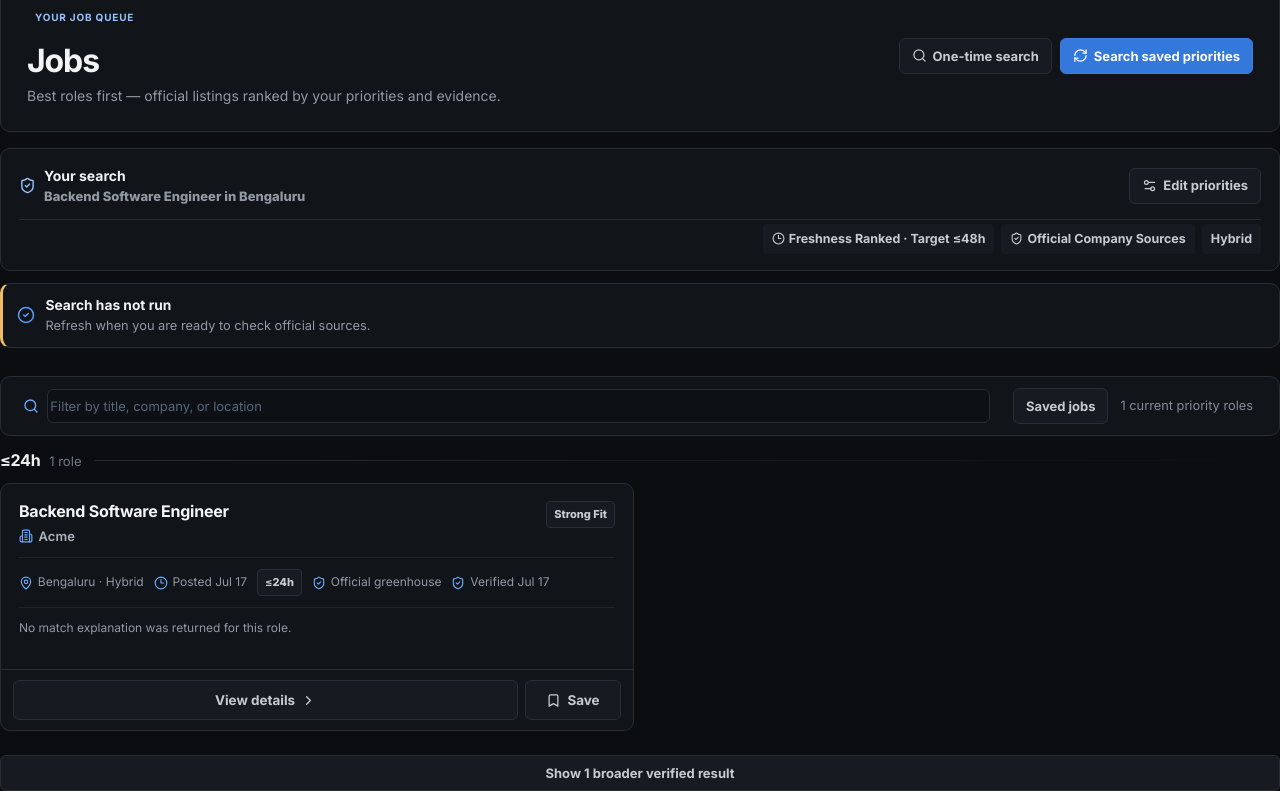
it: JobsPage application handoff › leads with current, priority-safe roles and reveals broader results deliberately
(page scrolled)
Expected: the heading "Backend Software Engineer" is shown, [19,501,229,521]
Expected: the text "Older Platform Engineer" is not shown
Click the button "Show 1 broader verified result": (640, 773) [0,755,1279,790]
(page scrolled)
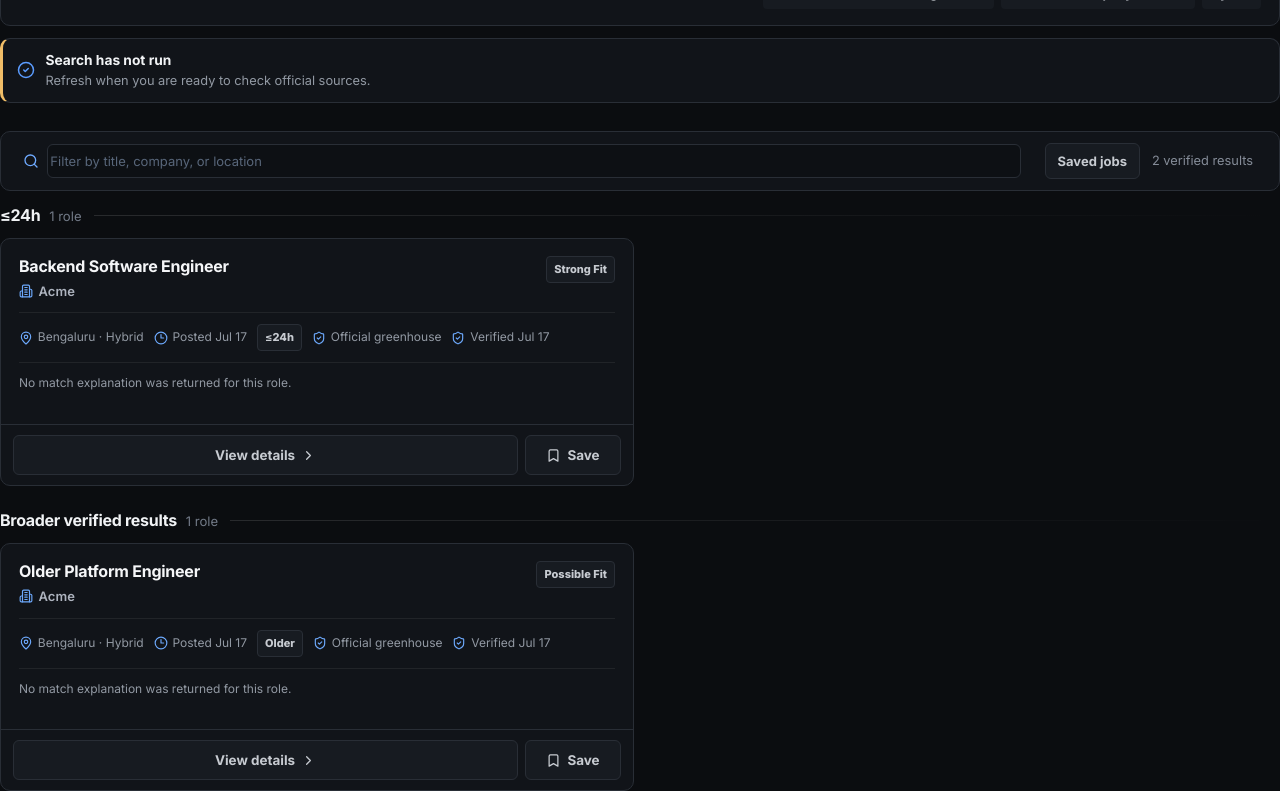
Now the heading "Older Platform Engineer" is shown, box [19,561,200,581]
